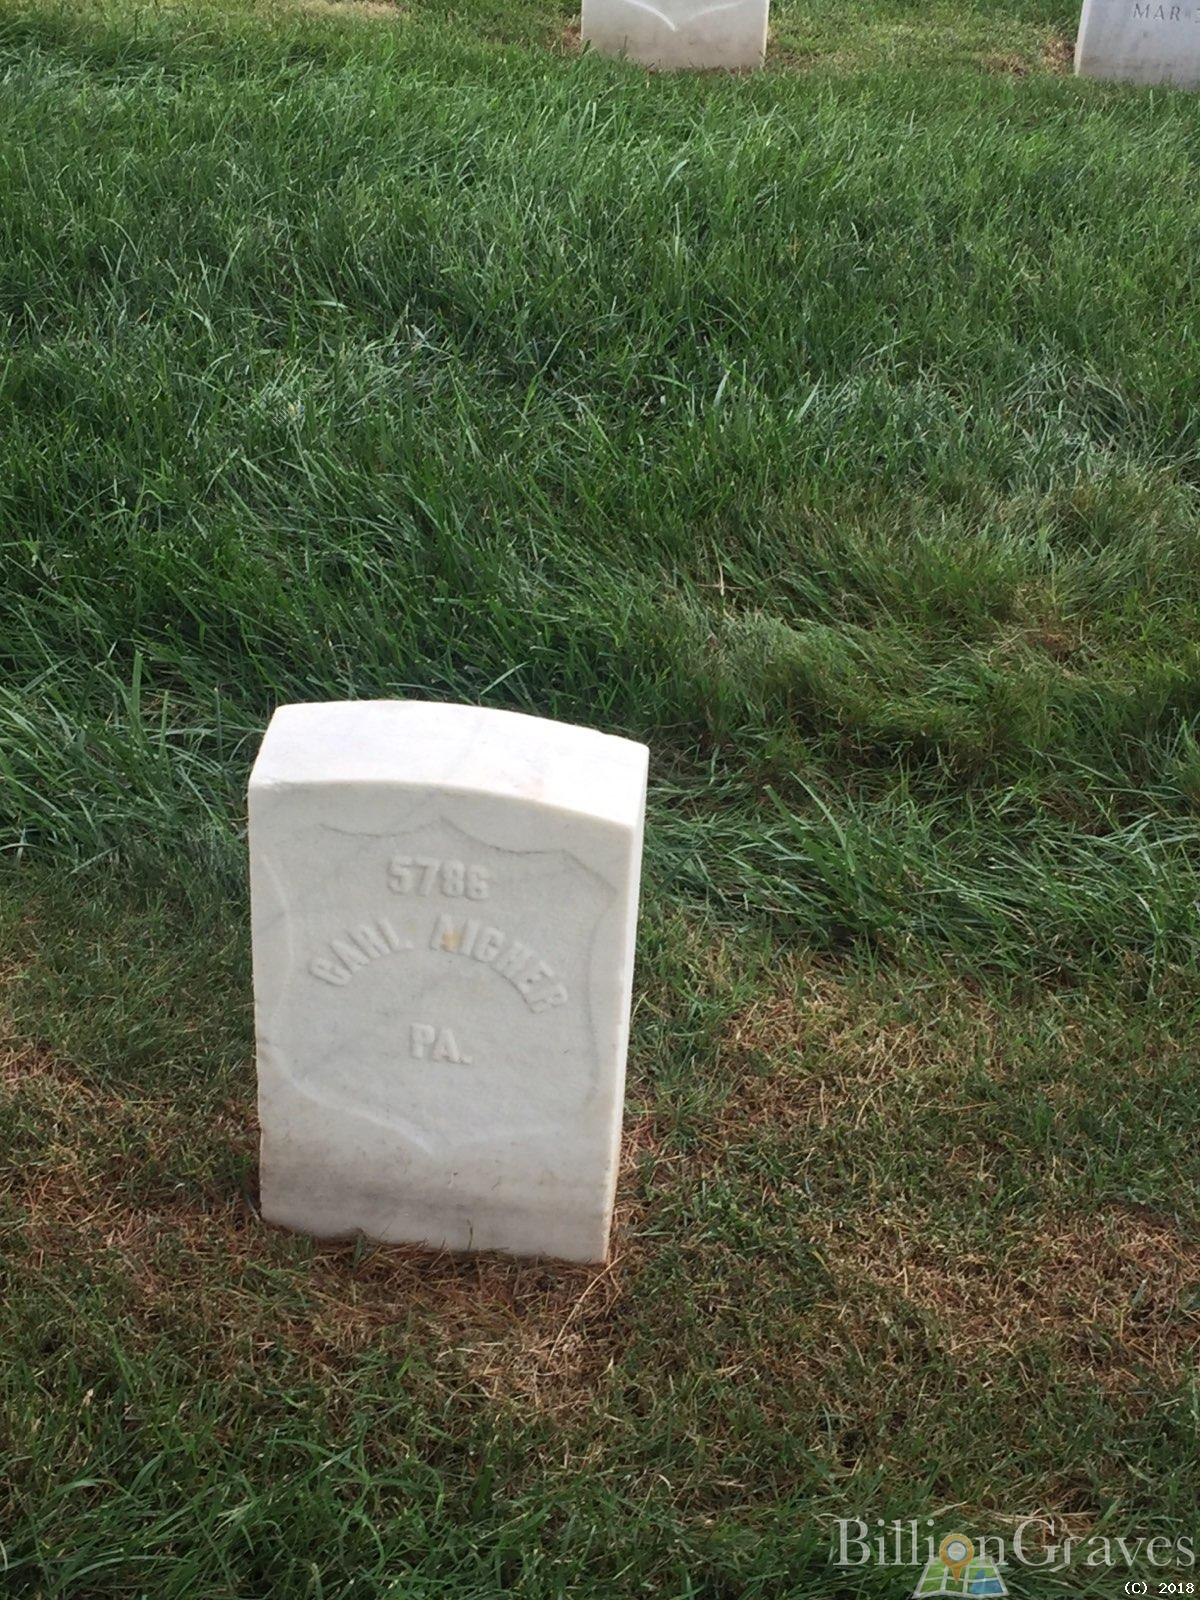military: (232, 663, 689, 1303)
